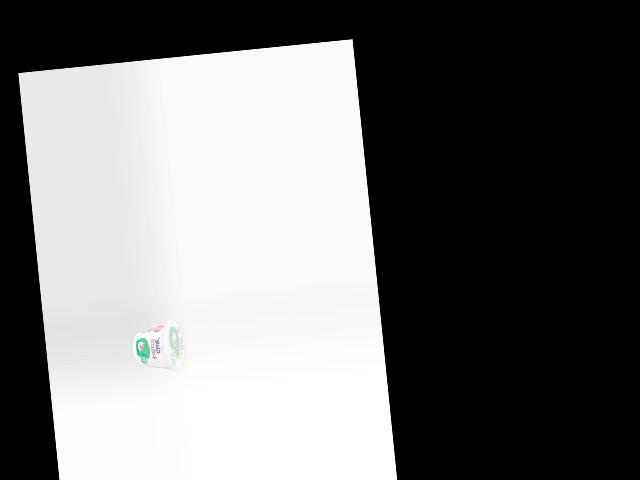cotage: (130, 317, 188, 376)
